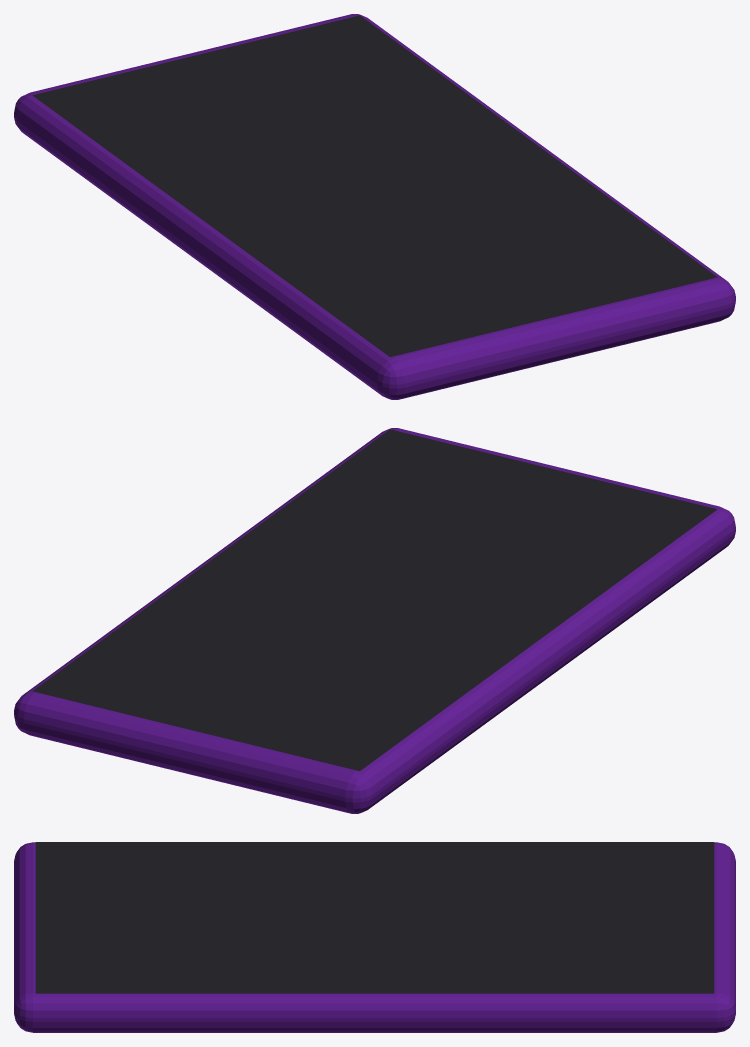
The model's file is Phone_151.glb.
3 views of the same model, one above another, from view 1: azimuth 30°, elevation 25°; view 2: azimuth 150°, elevation 25°; view 3: azimuth 270°, elevation 25° (orthographic). The views are drawn at different scales.
Visible parts, largest first — view 1: Phone_Screen, Phone_Body; view 2: Phone_Screen, Phone_Body; view 3: Phone_Screen, Phone_Body.
Part boxes in pixels (x1,y1,x2,y2): Phone_Screen: (32,15,717,357); Phone_Body: (14,14,735,399); Phone_Screen: (32,429,717,771); Phone_Body: (14,428,735,813); Phone_Screen: (35,842,714,993); Phone_Body: (14,842,735,1032).
Bounding box in the file's own units: 0.0774 × 0.0085 × 0.1433.
